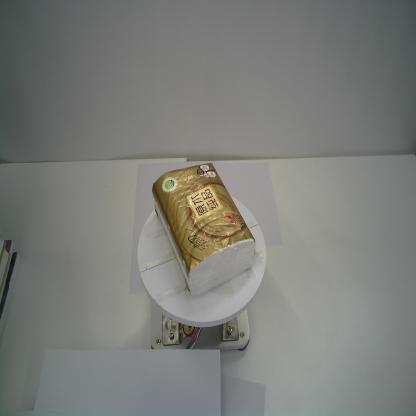Tissue: (152, 163, 256, 299)
